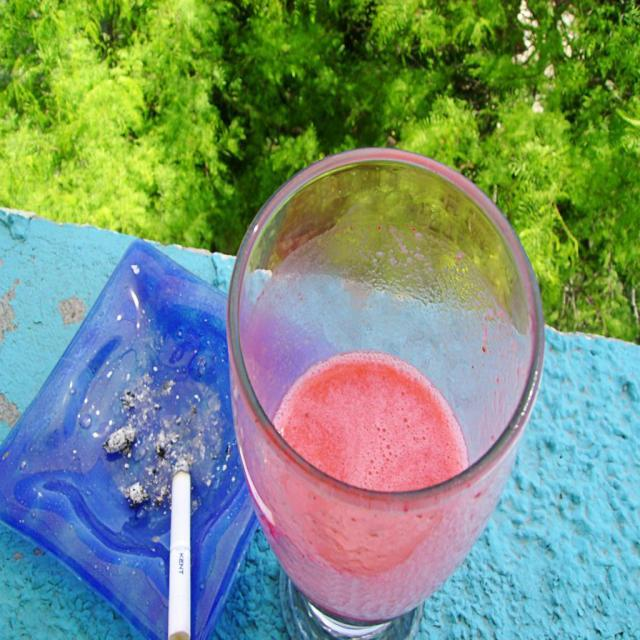Juice: (265, 345, 473, 619)
